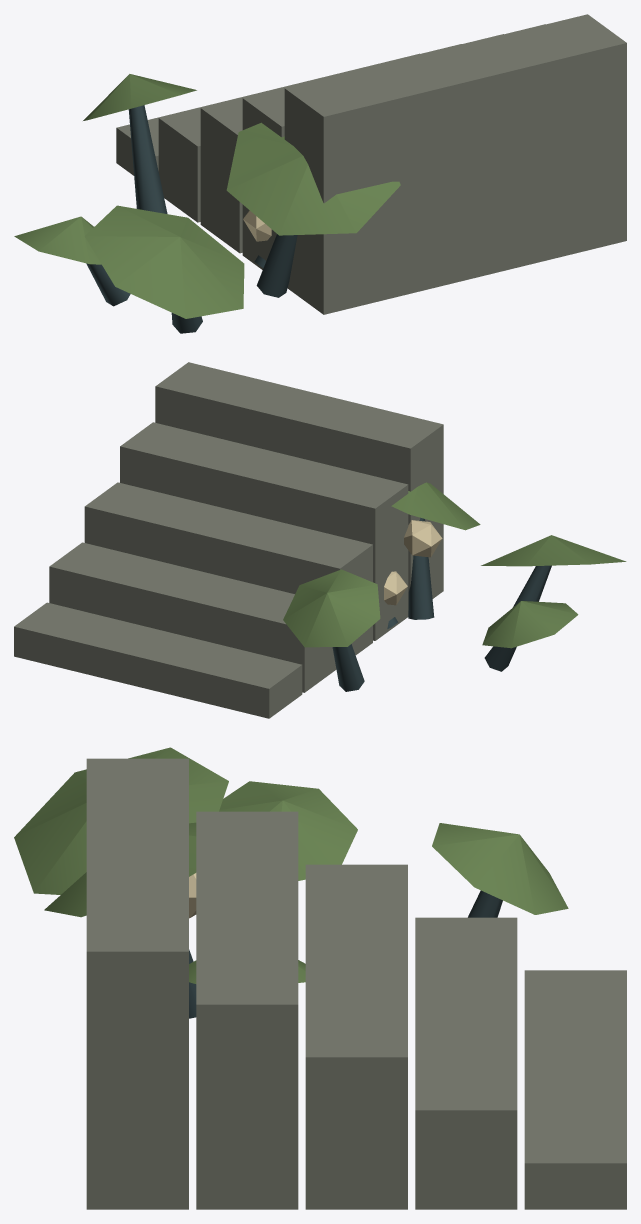
File: overgrown-steps.glb
3 views of the same model, one above another, from view 1: azimuth 30°, elevation 25°; view 2: azimuth 150°, elevation 25°; view 3: azimuth 270°, elevation 25° (orthographic). The views are drawn at different scales.
Parts seen in each view (by area): view 1: overgrown-steps; view 2: overgrown-steps; view 3: overgrown-steps.
Boxes of the visible parts, x1=… form: overgrown-steps: x1=14, y1=14, x2=626, y2=333; overgrown-steps: x1=14, y1=362, x2=626, y2=718; overgrown-steps: x1=14, y1=747, x2=626, y2=1209.
Size of the model in its own units: 2.17 by 0.806 by 1.68.
